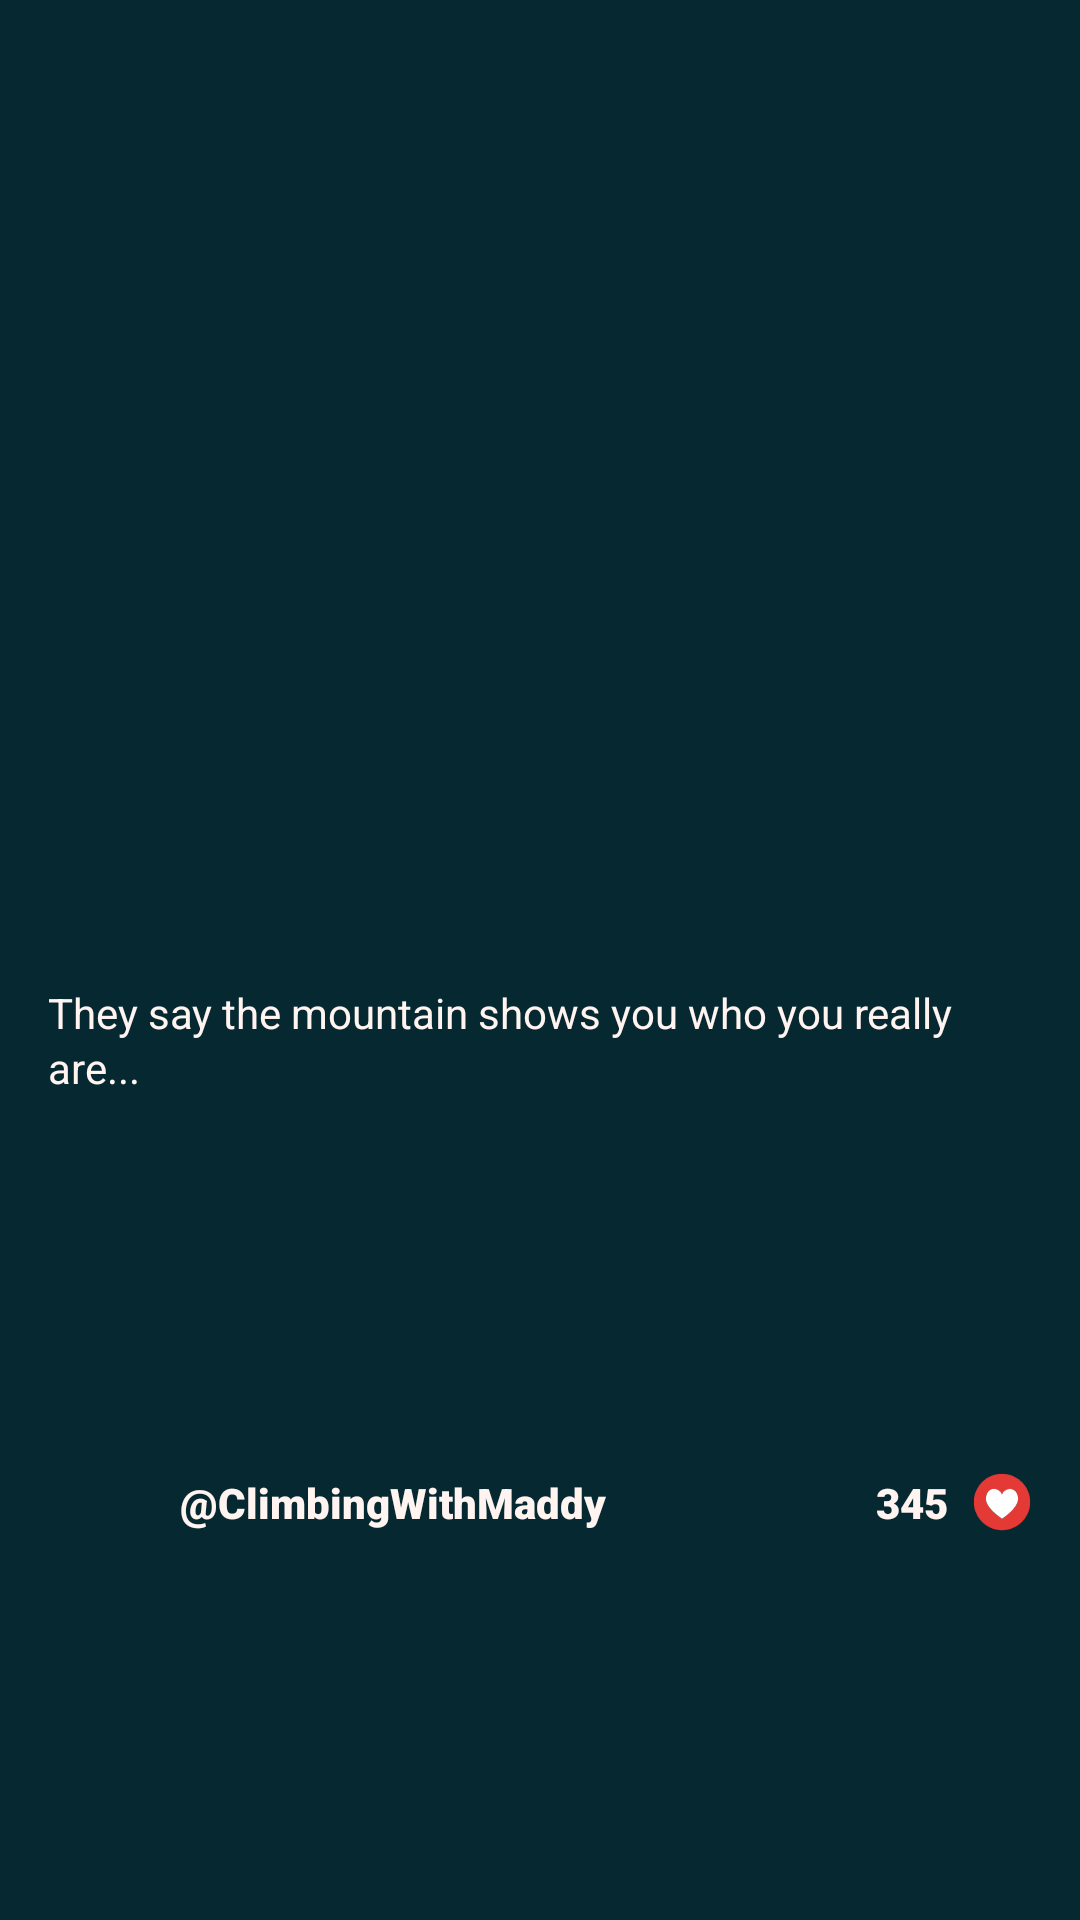

Icons on this 1080px×1920px Android screen, each with the point to tap as (x=x, y=y):
heart: (x=1002, y=1502)
